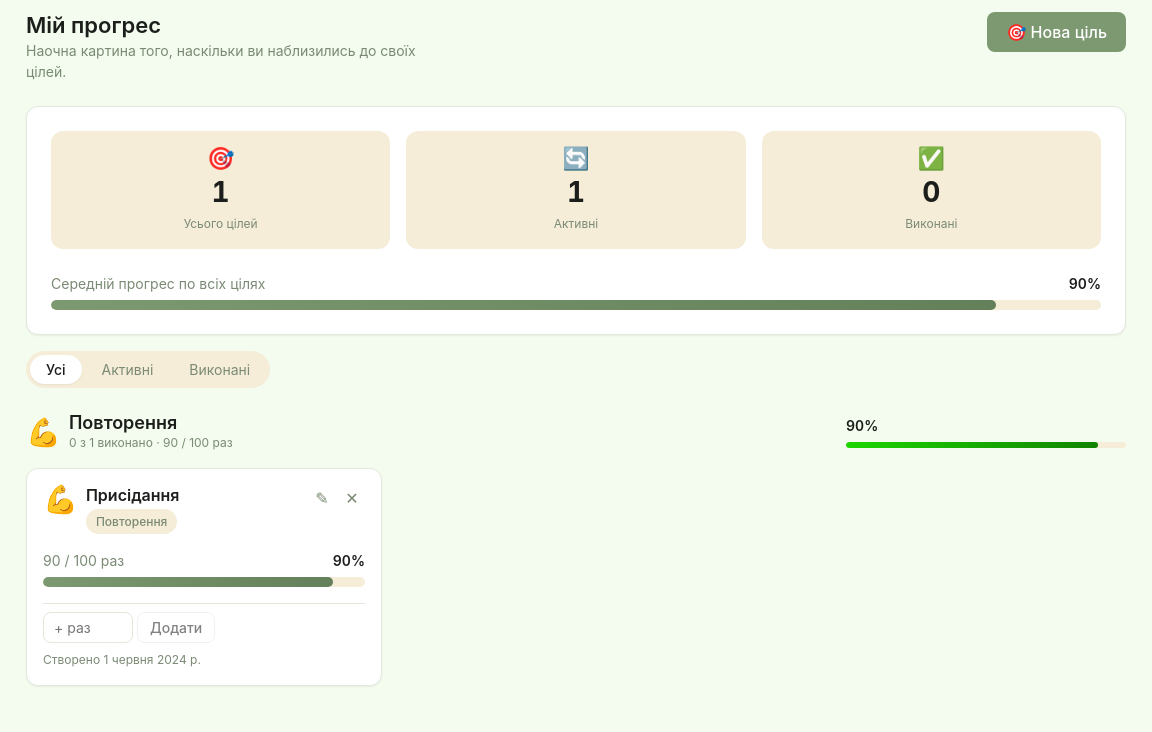
Test: ProgressPage — повний цикл CRUD цілей › додає прогрес і позначає ціль виконаною
Type "10" into the number field named "Додати прогрес у раз" at (88, 628), box [43,612,133,643]
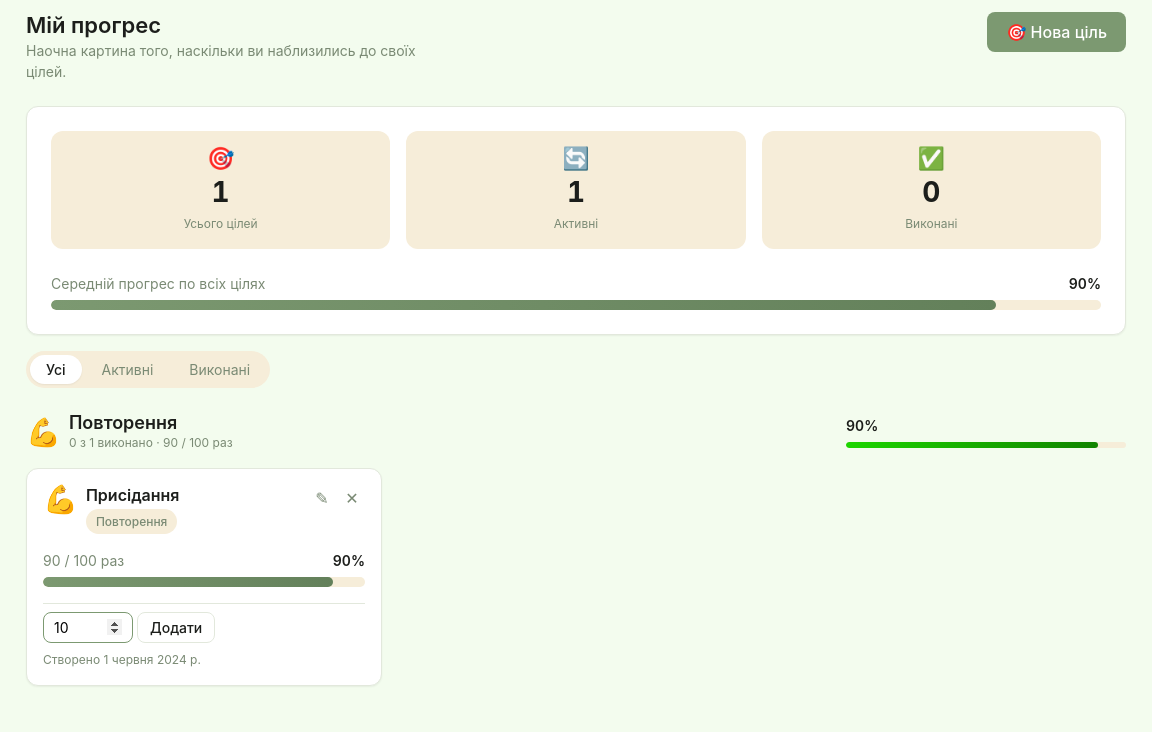
Click the button "Додати" at (176, 628), box [137,612,215,643]
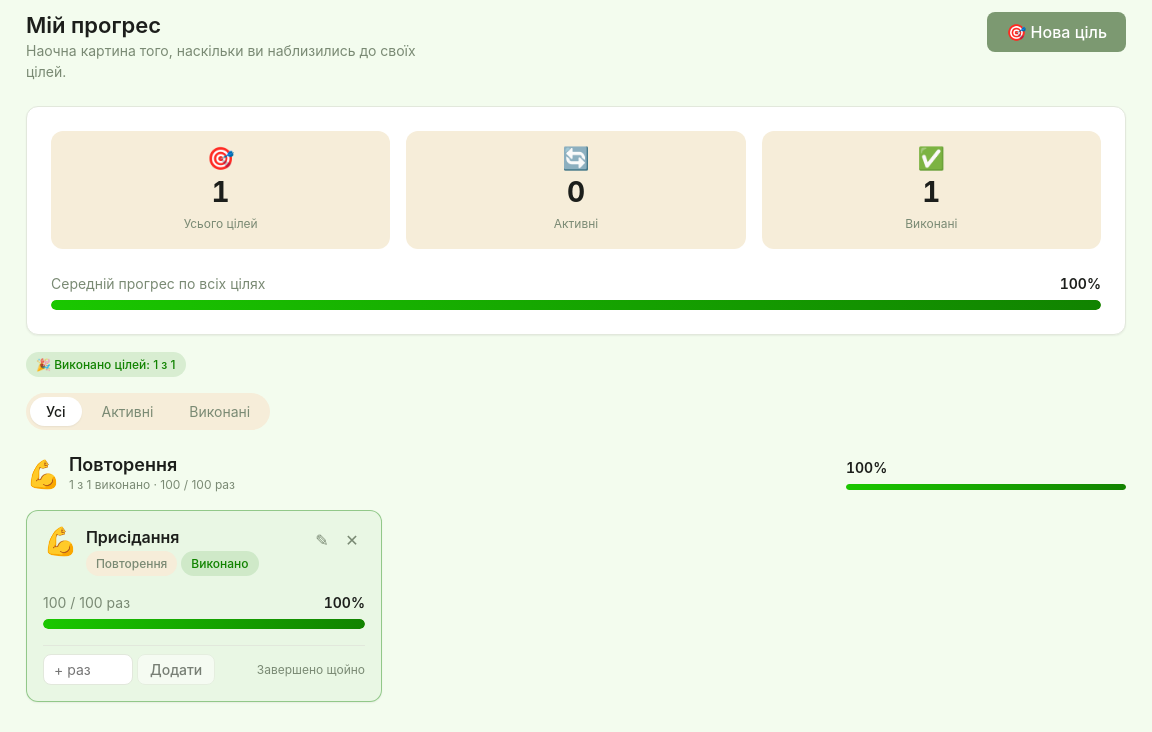
Now the text "Виконано" is shown, box [181,551,258,576]
